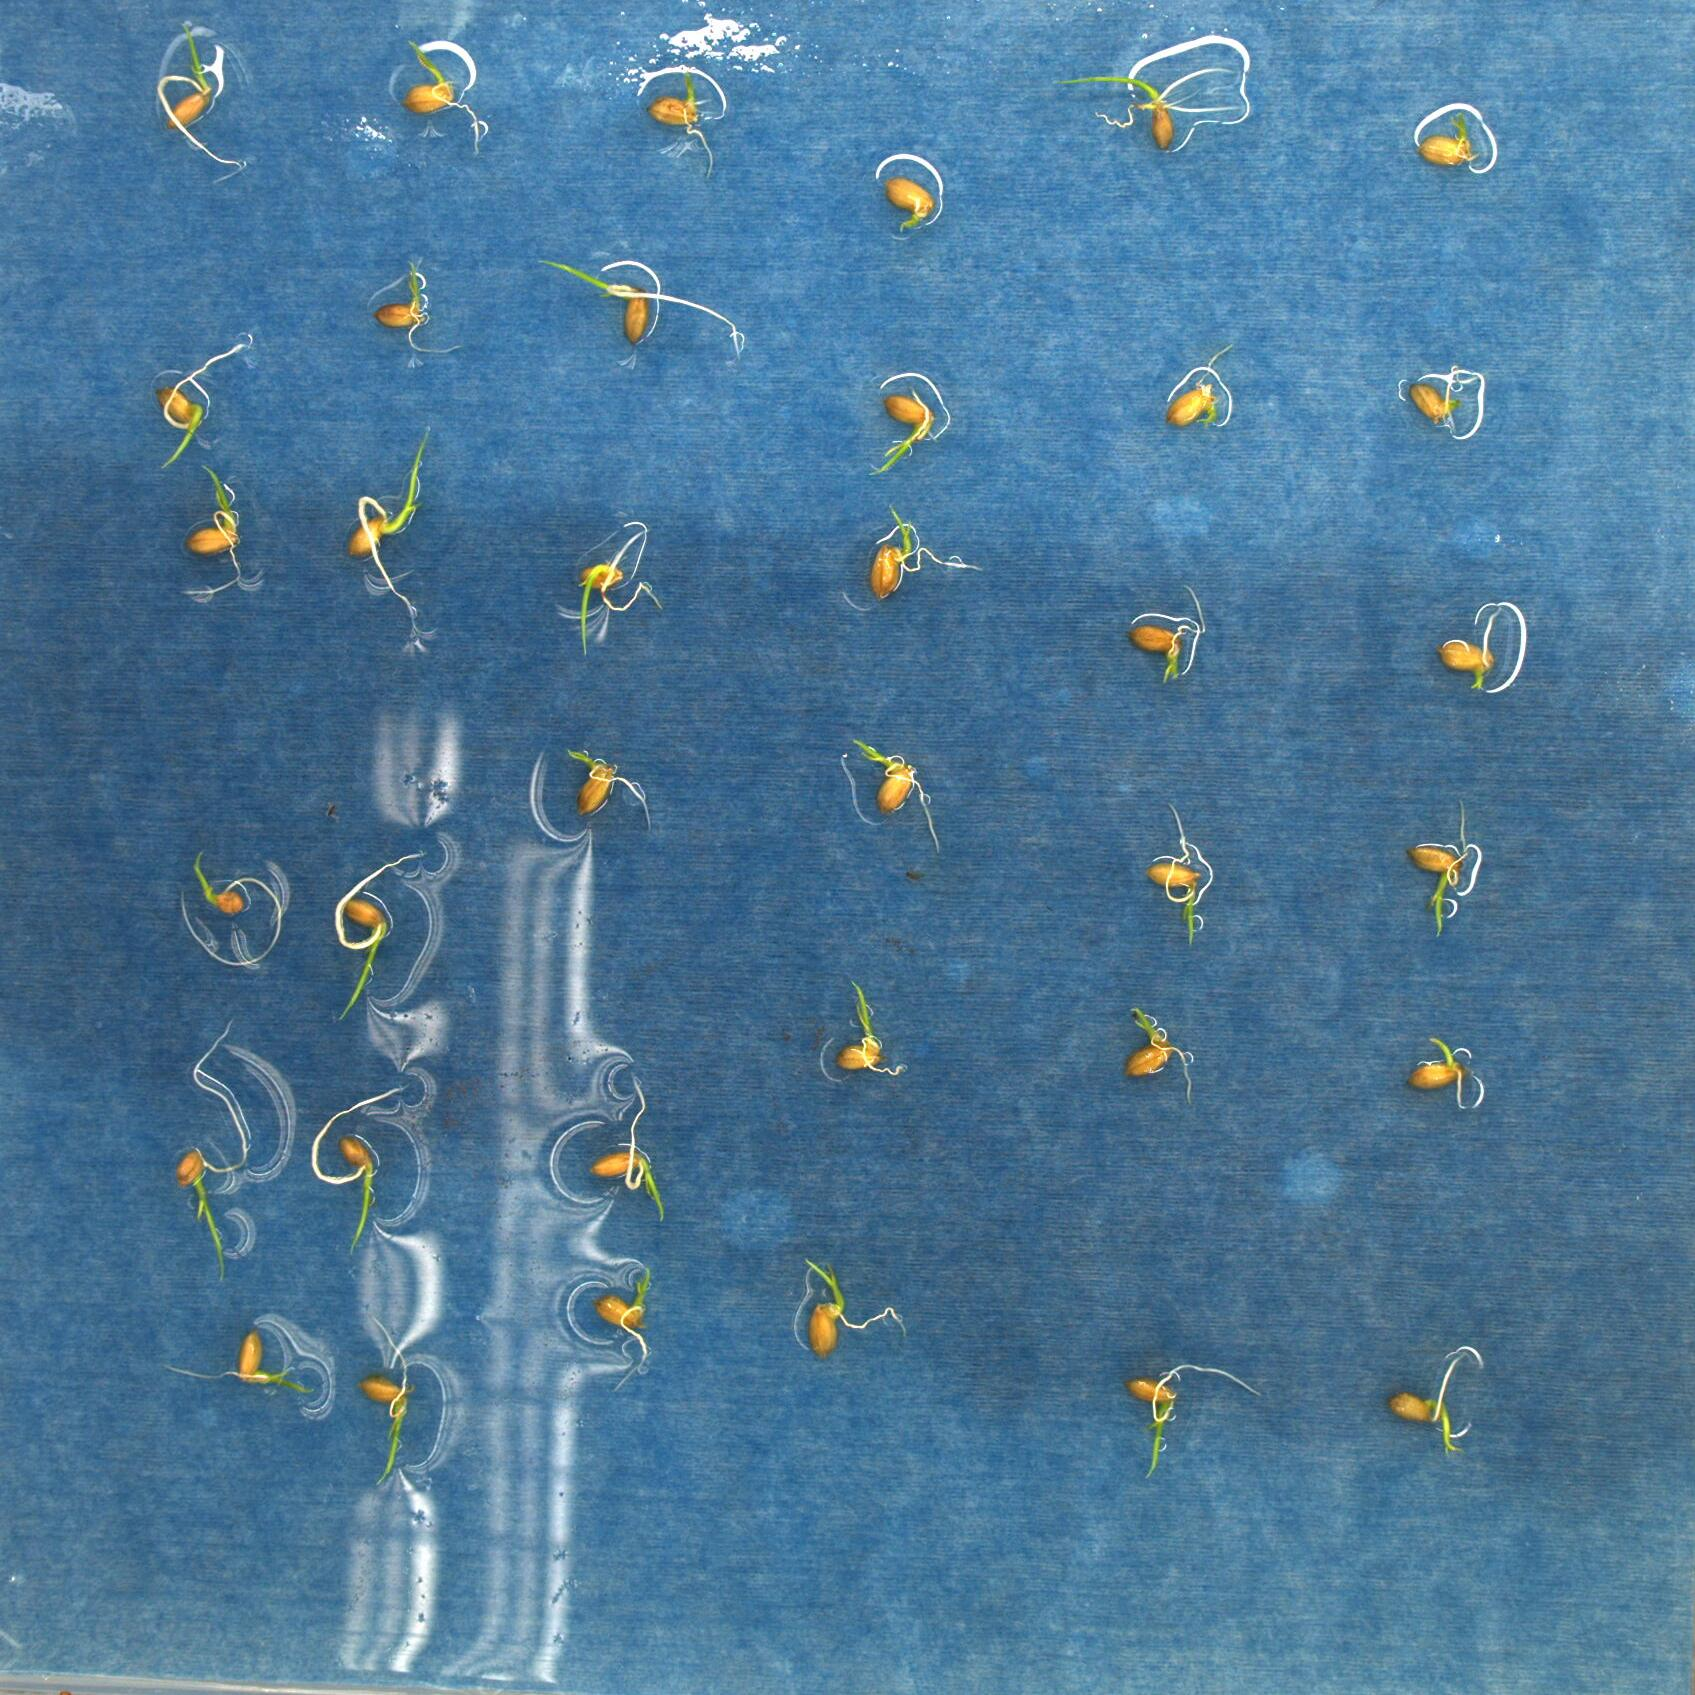not sprout: (1434, 602, 1510, 688), (1406, 369, 1461, 432)
sprout: (534, 258, 744, 362), (175, 1017, 245, 1287), (345, 421, 428, 640), (1052, 64, 1242, 152), (310, 1085, 407, 1253), (331, 854, 421, 1018), (1128, 1364, 1260, 1475), (154, 23, 245, 174), (151, 338, 247, 467), (590, 1073, 667, 1225), (177, 847, 279, 962), (846, 733, 941, 857), (869, 508, 984, 605), (161, 1327, 324, 1394), (802, 1256, 906, 1360), (579, 520, 660, 652), (397, 34, 483, 157), (1385, 1352, 1475, 1454), (1146, 799, 1205, 945), (379, 255, 459, 357), (359, 1318, 408, 1482), (1411, 801, 1470, 934), (646, 68, 717, 179), (185, 463, 244, 593), (832, 976, 908, 1077), (567, 747, 655, 832), (1124, 1004, 1195, 1108), (1132, 588, 1208, 683), (594, 1267, 650, 1392), (861, 388, 934, 478), (1167, 345, 1242, 432), (1406, 1035, 1471, 1110), (1414, 115, 1473, 168), (885, 177, 930, 237)
